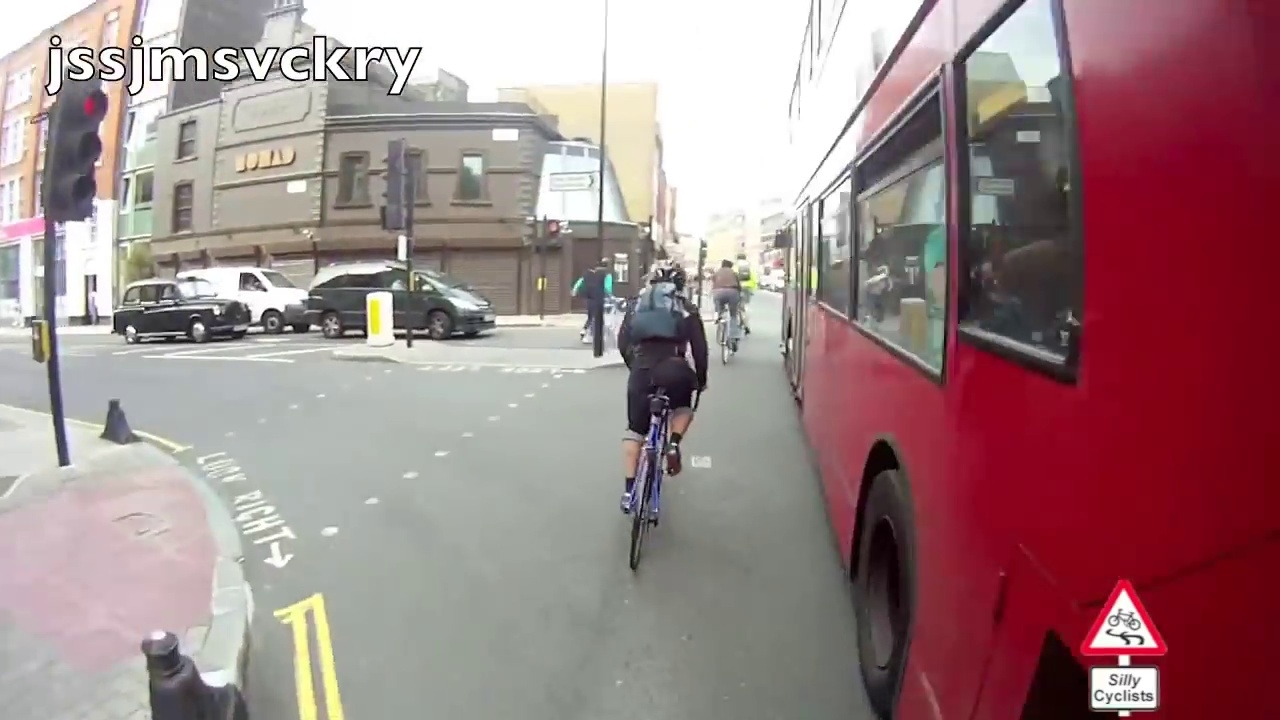cyclist_back: (609, 249, 689, 581), (707, 255, 746, 367)
